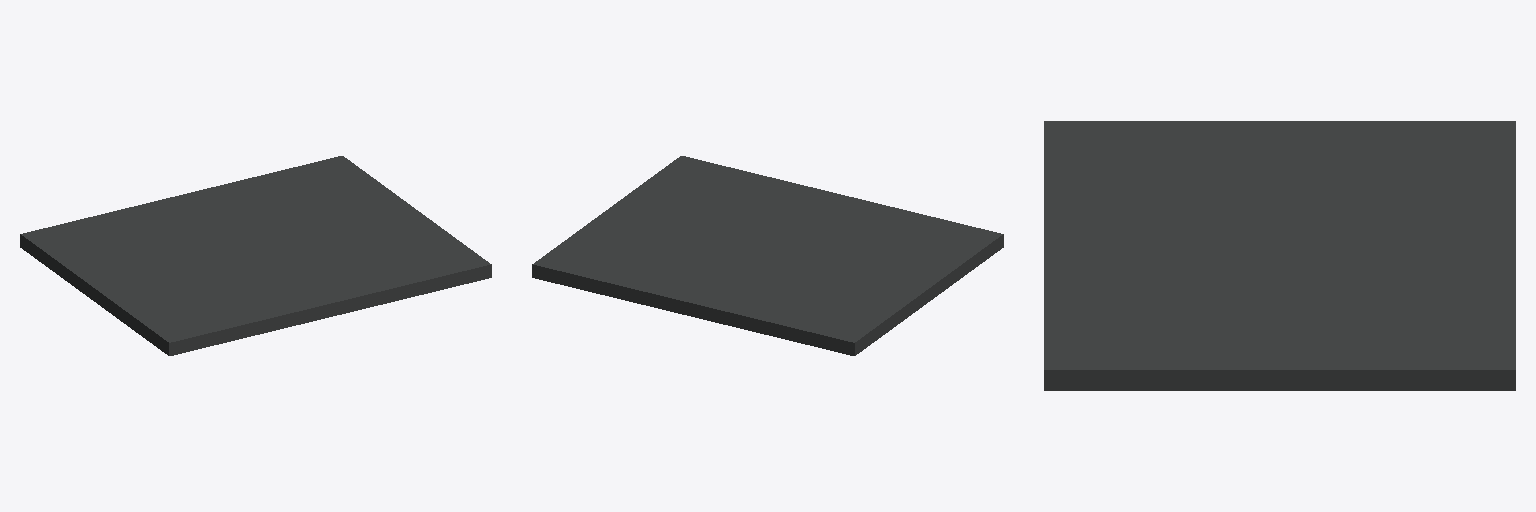
The robot description file, URDF, robot "plain_plane":
<?xml version="1.0" ?>
<robot name="plain_plane">
  <link name="plain_planeLink">
  <contact>
      <lateral_friction value="1"/>
  </contact>
    <inertial>
      <origin rpy="0 0 0" xyz="0 0 0"/>
       <mass value=".0"/>
       <inertia ixx="0" ixy="0" ixz="0" iyy="0" iyz="0" izz="0"/>
    </inertial>
    <visual>
      <origin rpy="0 0 0" xyz="0 0 -0.05"/>
      <geometry>
	 	<box size="2.5 2 0.1"/>
      </geometry>
       <material name="white">
        <color rgba="0.31 0.318 0.318 1"/>
      </material>
    </visual>
    <collision>
      <origin rpy="0 0 0" xyz="0 0 -0.05"/>
      <geometry>
	 	<box size="10 10 0.1"/>
      </geometry>
    </collision>
  </link>
</robot>

--- Facts derived from the render (not from the file) ---
The picture shows the robot from 3 angles, left to right: view 1: azimuth 30°, elevation 25°; view 2: azimuth 150°, elevation 25°; view 3: azimuth 270°, elevation 25°; orthographic projection.
Model plain_plane with 1 links and 0 joints (none), rooted at plain_planeLink, posed all joints at 0.
Links seen in each view (by area): view 1: plain_planeLink; view 2: plain_planeLink; view 3: plain_planeLink.
Link boxes in pixels (x1,y1,x2,y2): plain_planeLink: [20, 156, 491, 355]; plain_planeLink: [532, 156, 1003, 355]; plain_planeLink: [1044, 121, 1515, 390].
Size in the robot's own frame: 2.5 by 2 by 0.1 metres.
Geometry: primitives only (box / cylinder / sphere), no mesh files.